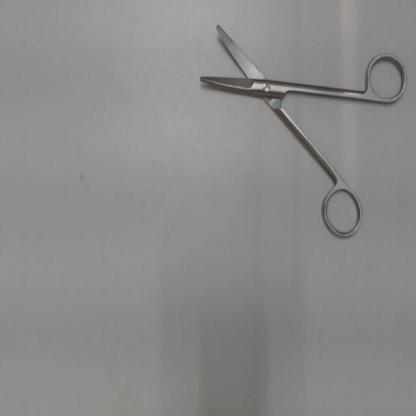Curved Mayo Scissors: (191, 10, 410, 247)
